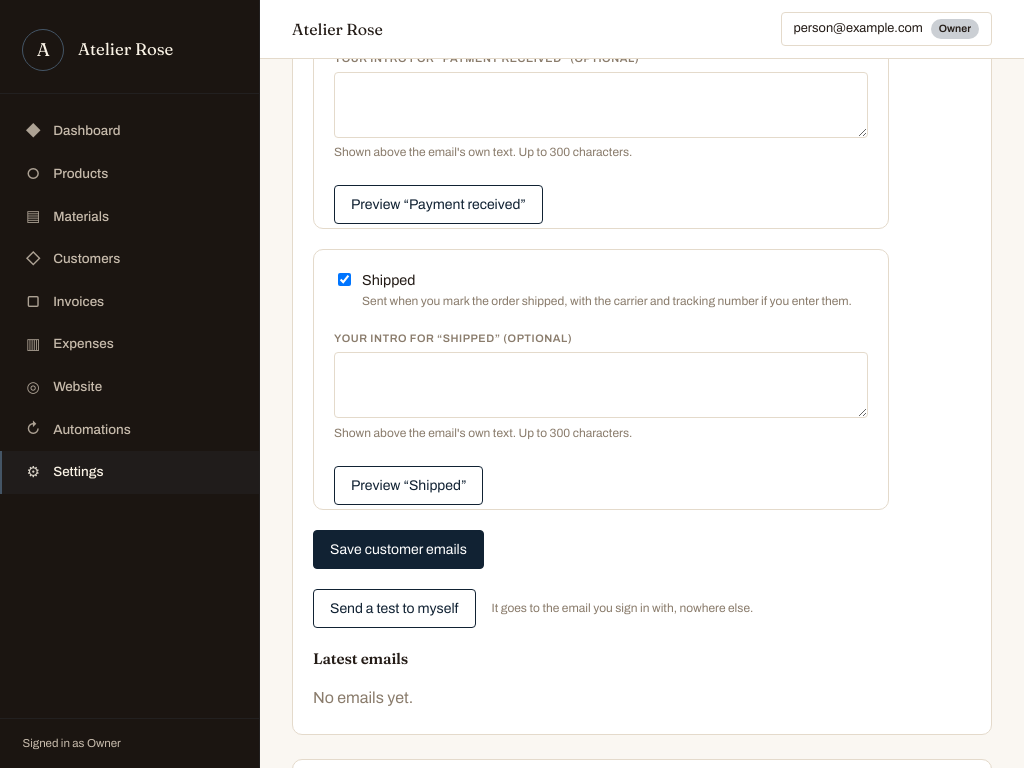
Scenario: settings › emails › customers › previews an email with the unsaved intro in a sandboxed frame, sending nothing
(page scrolled)
Type "On its way!" into the text box labelled "Your intro for “Shipped” (optional)". click: (601, 385)
box: x1=334 y1=352 x2=868 y2=418
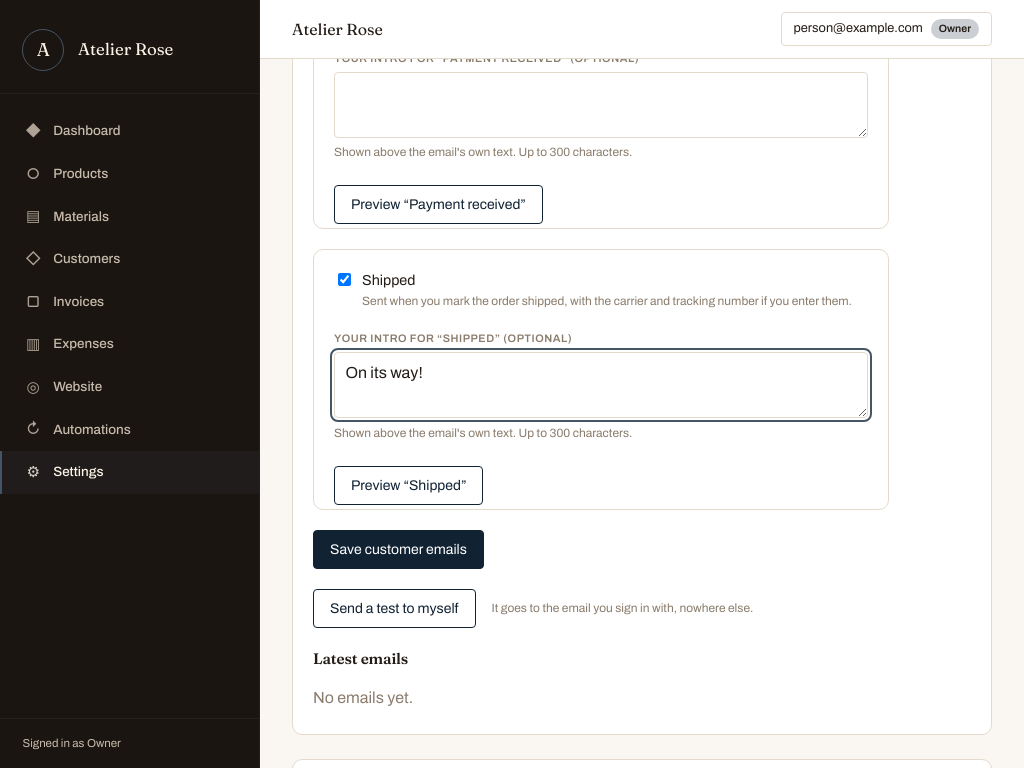
Click the button "Preview “Shipped”". click: (409, 485)
box: x1=334 y1=466 x2=483 y2=504
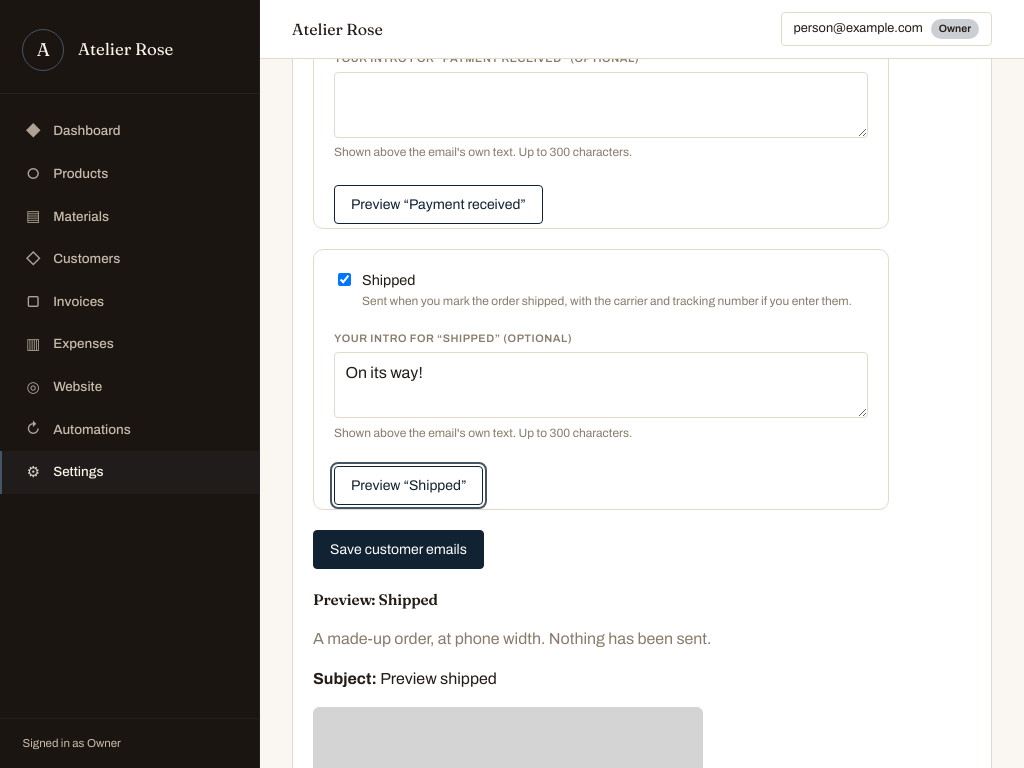
Expected: the text "Preview shipped" is shown, x1=380 y1=670 x2=497 y2=687
